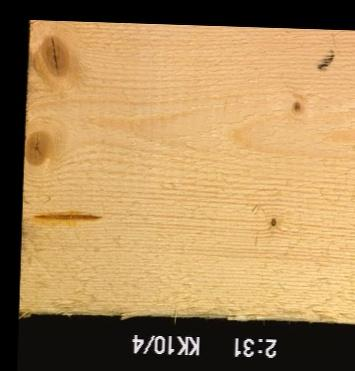dry_knot: (267, 215, 278, 227)
sound_knot: (33, 34, 73, 82), (23, 126, 54, 168), (289, 98, 303, 114)
